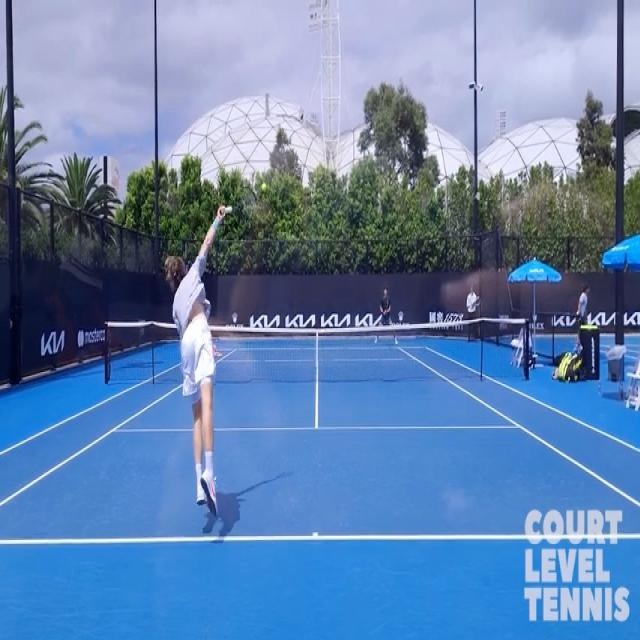serve_followthrough: (142, 190, 259, 538)
